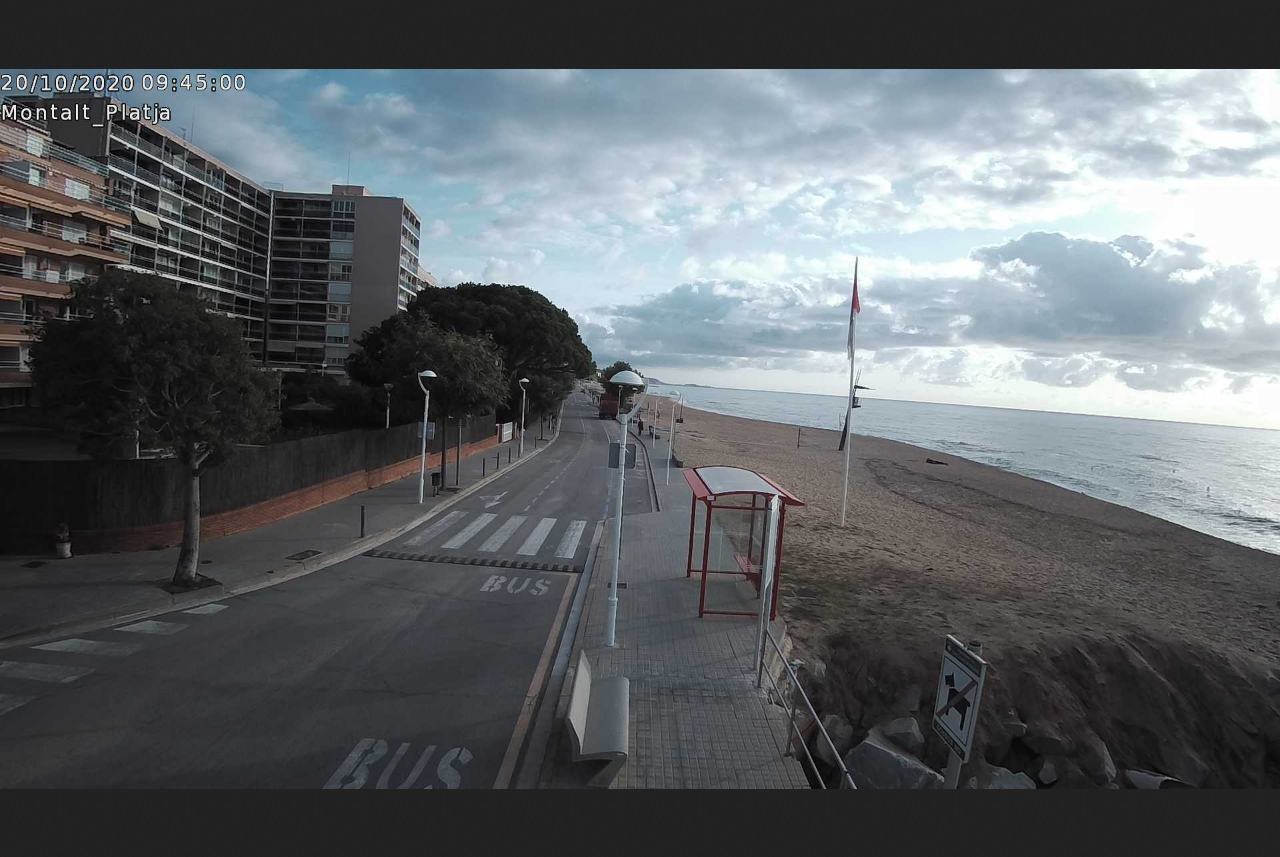no: (844, 255, 866, 363)
